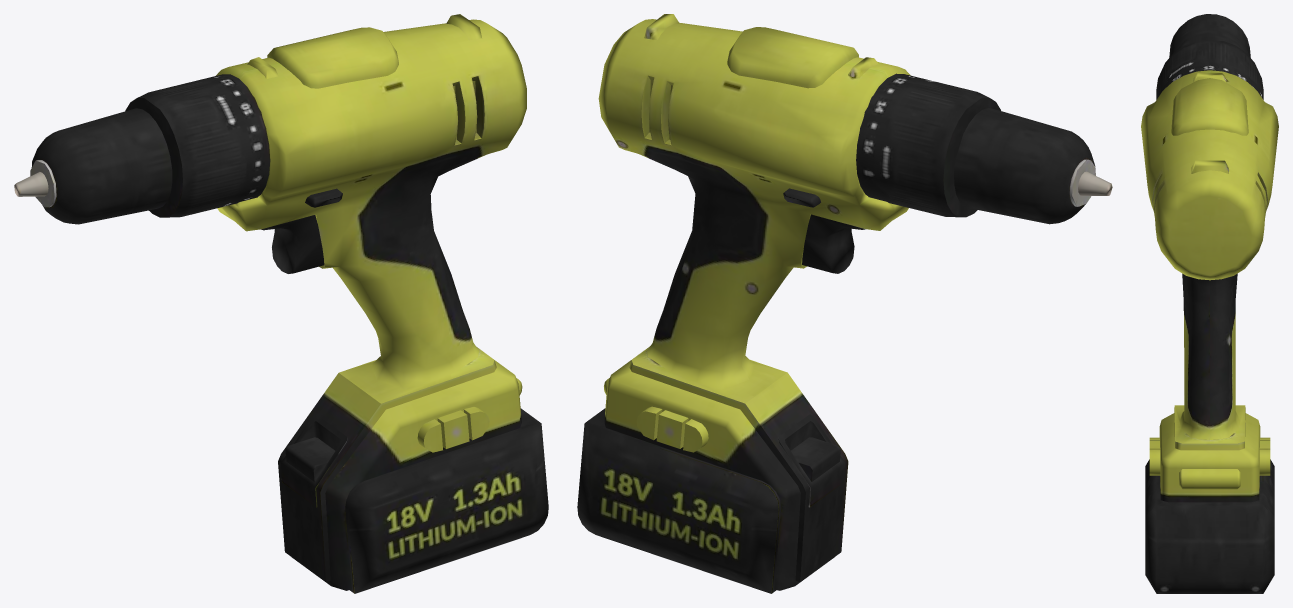
Rendered from Drill_01.glb.
The picture shows the model from 3 angles, left to right: view 1: azimuth 30°, elevation 25°; view 2: azimuth 150°, elevation 25°; view 3: azimuth 270°, elevation 25°; orthographic projection. The views are drawn at different scales.
Parts seen in each view (by area): view 1: Drill_01; view 2: Drill_01; view 3: Drill_01.
Part boxes in pixels (bbox=[...]): Drill_01: bbox=[14, 14, 548, 593]; Drill_01: bbox=[577, 14, 1112, 593]; Drill_01: bbox=[1141, 14, 1278, 593].
Size of the model in its own units: 0.1829 by 0.1851 by 0.0524.
1 material, 1 textured.
